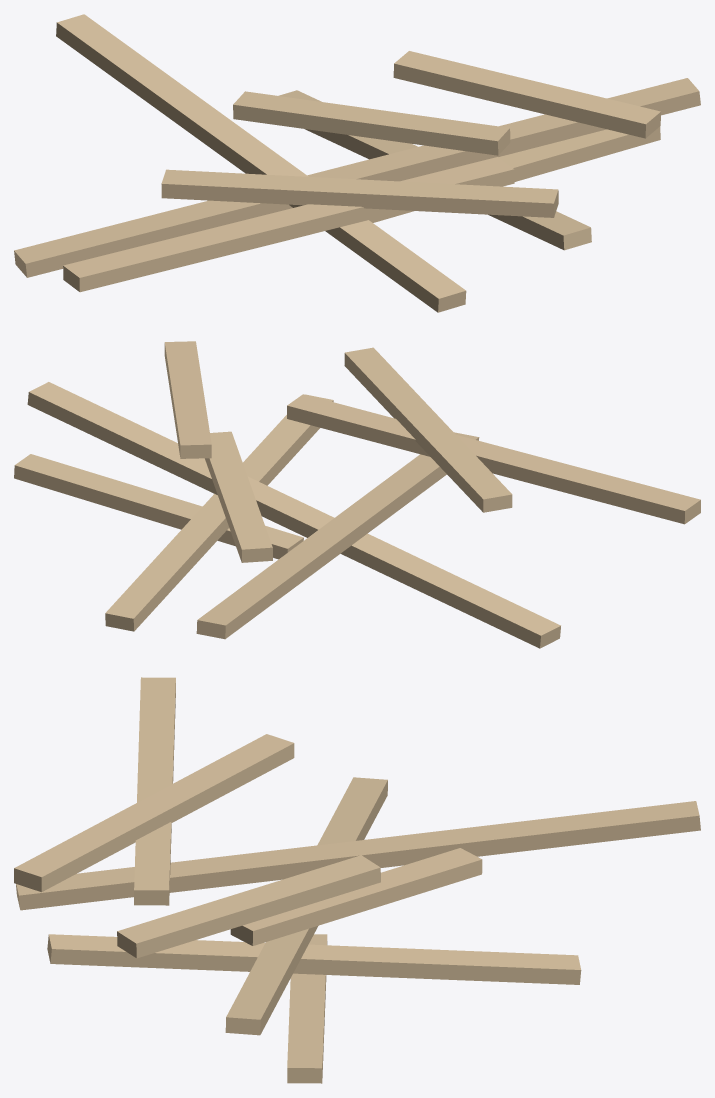
File: demolition.piece.timbers.glb
3 renders of one model, top to bottom at view 1: azimuth 30°, elevation 25°; view 2: azimuth 150°, elevation 25°; view 3: azimuth 270°, elevation 25°, orthographic. The views are drawn at different scales.
Parts seen in each view (by area): view 1: main__softwood; view 2: main__softwood; view 3: main__softwood.
Part boxes in pixels (<box>): main__softwood: <box>14,14,700,312</box>; main__softwood: <box>14,341,700,648</box>; main__softwood: <box>14,677,700,1083</box>.
Size of the model in its own units: 2.28 by 0.4004 by 1.96.
